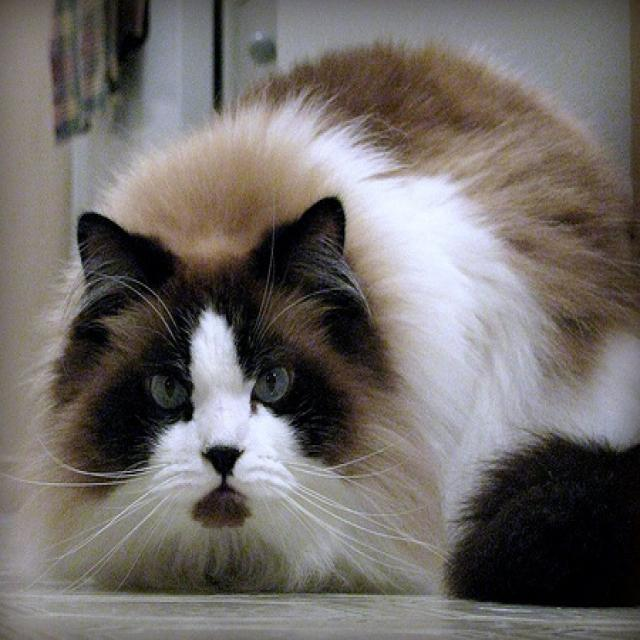Ragdoll: (15, 34, 640, 614)
